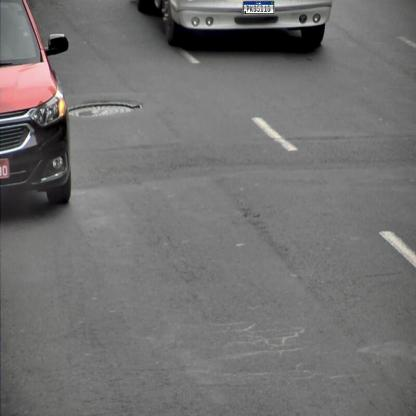PlacaM: (243, 1, 274, 14)
